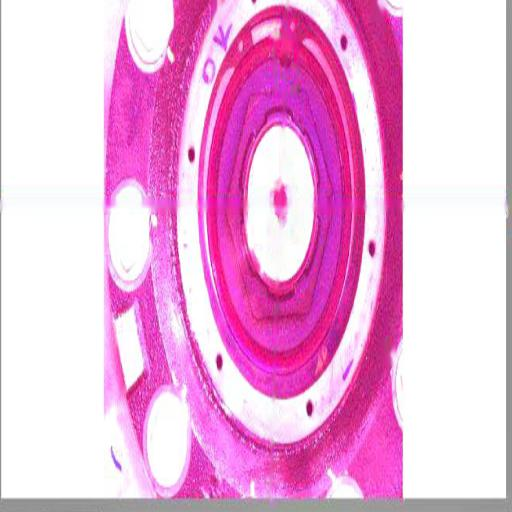center: (272, 186, 292, 225)
notch: (277, 51, 296, 82)
